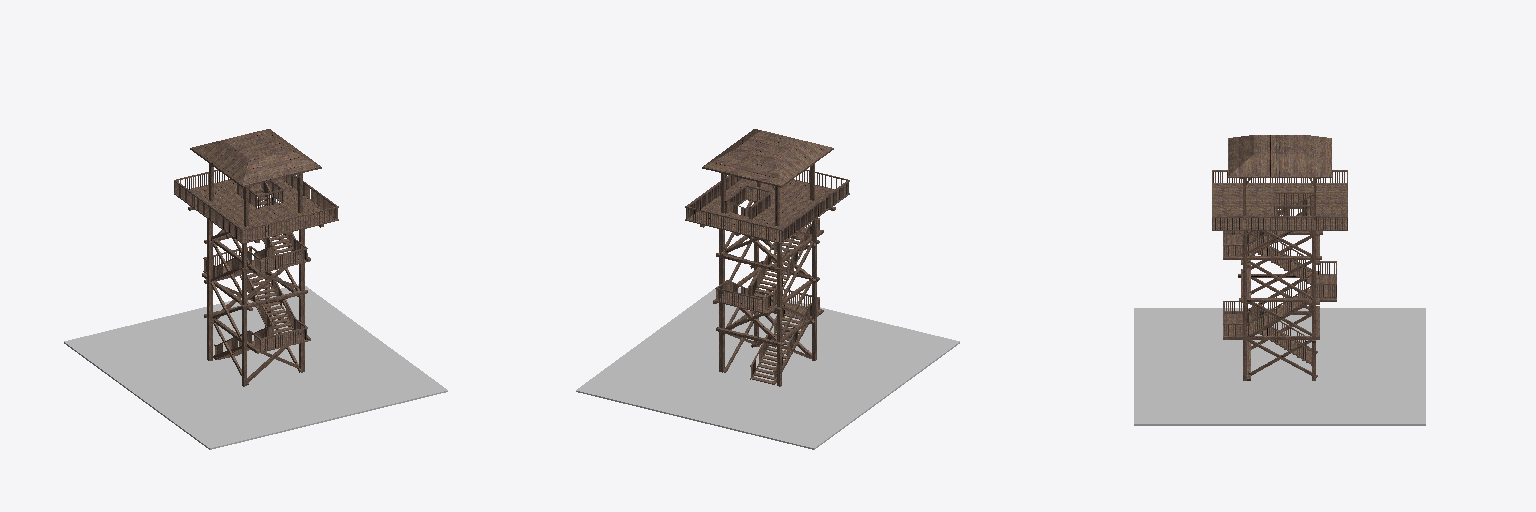
3 views of the same model, side by side, from view 1: azimuth 30°, elevation 25°; view 2: azimuth 150°, elevation 25°; view 3: azimuth 270°, elevation 25° (orthographic).
Parts seen in each view (by area): view 1: uploads_files_[number redacted]_watchtower; view 2: uploads_files_[number redacted]_watchtower; view 3: uploads_files_[number redacted]_watchtower.
Part boxes in pixels (x1,y1,x2,y2): uploads_files_[number redacted]_watchtower: (64,129,447,449); uploads_files_[number redacted]_watchtower: (576,129,959,449); uploads_files_[number redacted]_watchtower: (1134,135,1425,425).
Bounding box in the file's own units: 42.23 × 37.68 × 44.82.
2 materials, 1 textured.